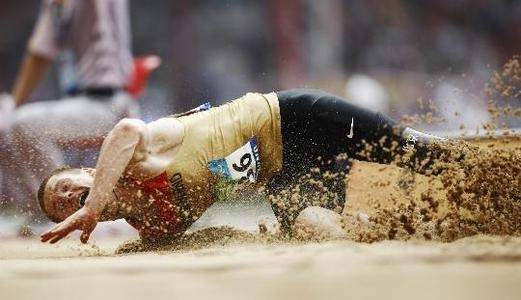falling: (9, 75, 520, 253)
